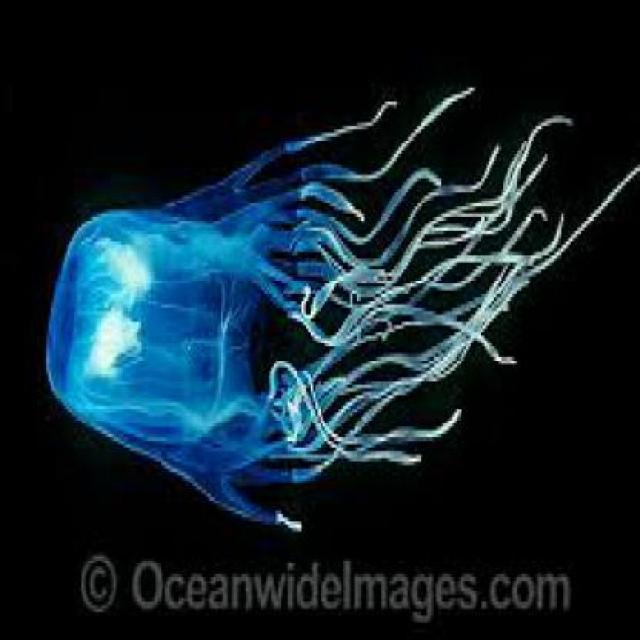Jellyfish: (34, 76, 632, 532)
